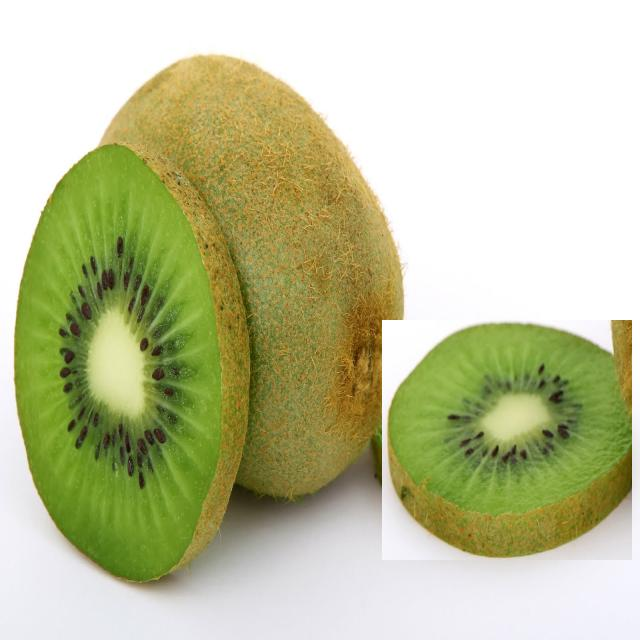Qiwi: (84, 68, 399, 507), (31, 138, 248, 609), (382, 320, 632, 560)
